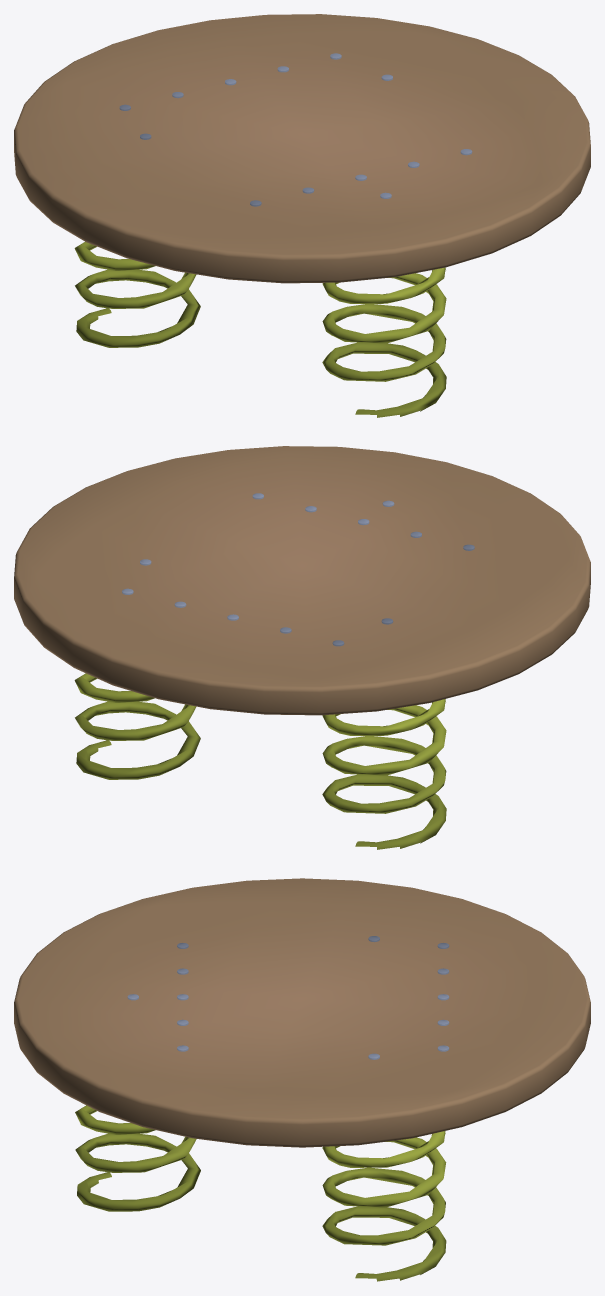
File: skipping rope.fbx
The picture shows the model from 3 angles, top to bottom: view 1: azimuth 30°, elevation 25°; view 2: azimuth 150°, elevation 25°; view 3: azimuth 270°, elevation 25°; orthographic projection.
Visible parts, largest first — view 1: Cube.001; view 2: Cube.001; view 3: Cube.001.
Part boxes in pixels (x1=…): Cube.001: x1=14, y1=14, x2=590, y2=417; Cube.001: x1=14, y1=446, x2=590, y2=849; Cube.001: x1=14, y1=878, x2=590, y2=1281.
Bounding box in the file's own units: 255 × 96.92 × 255.
